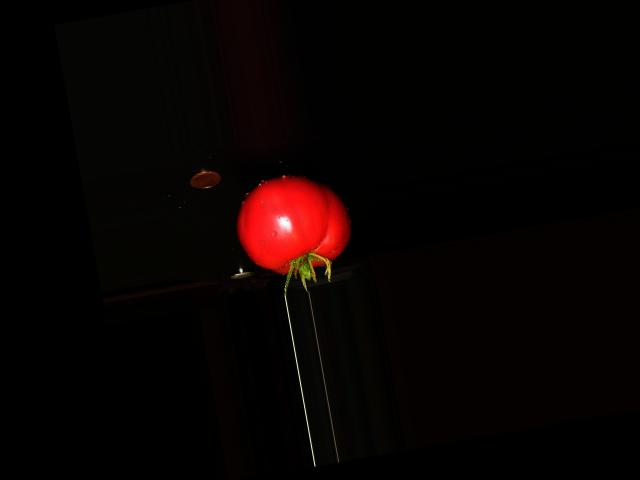tomato: (229, 164, 359, 281)
